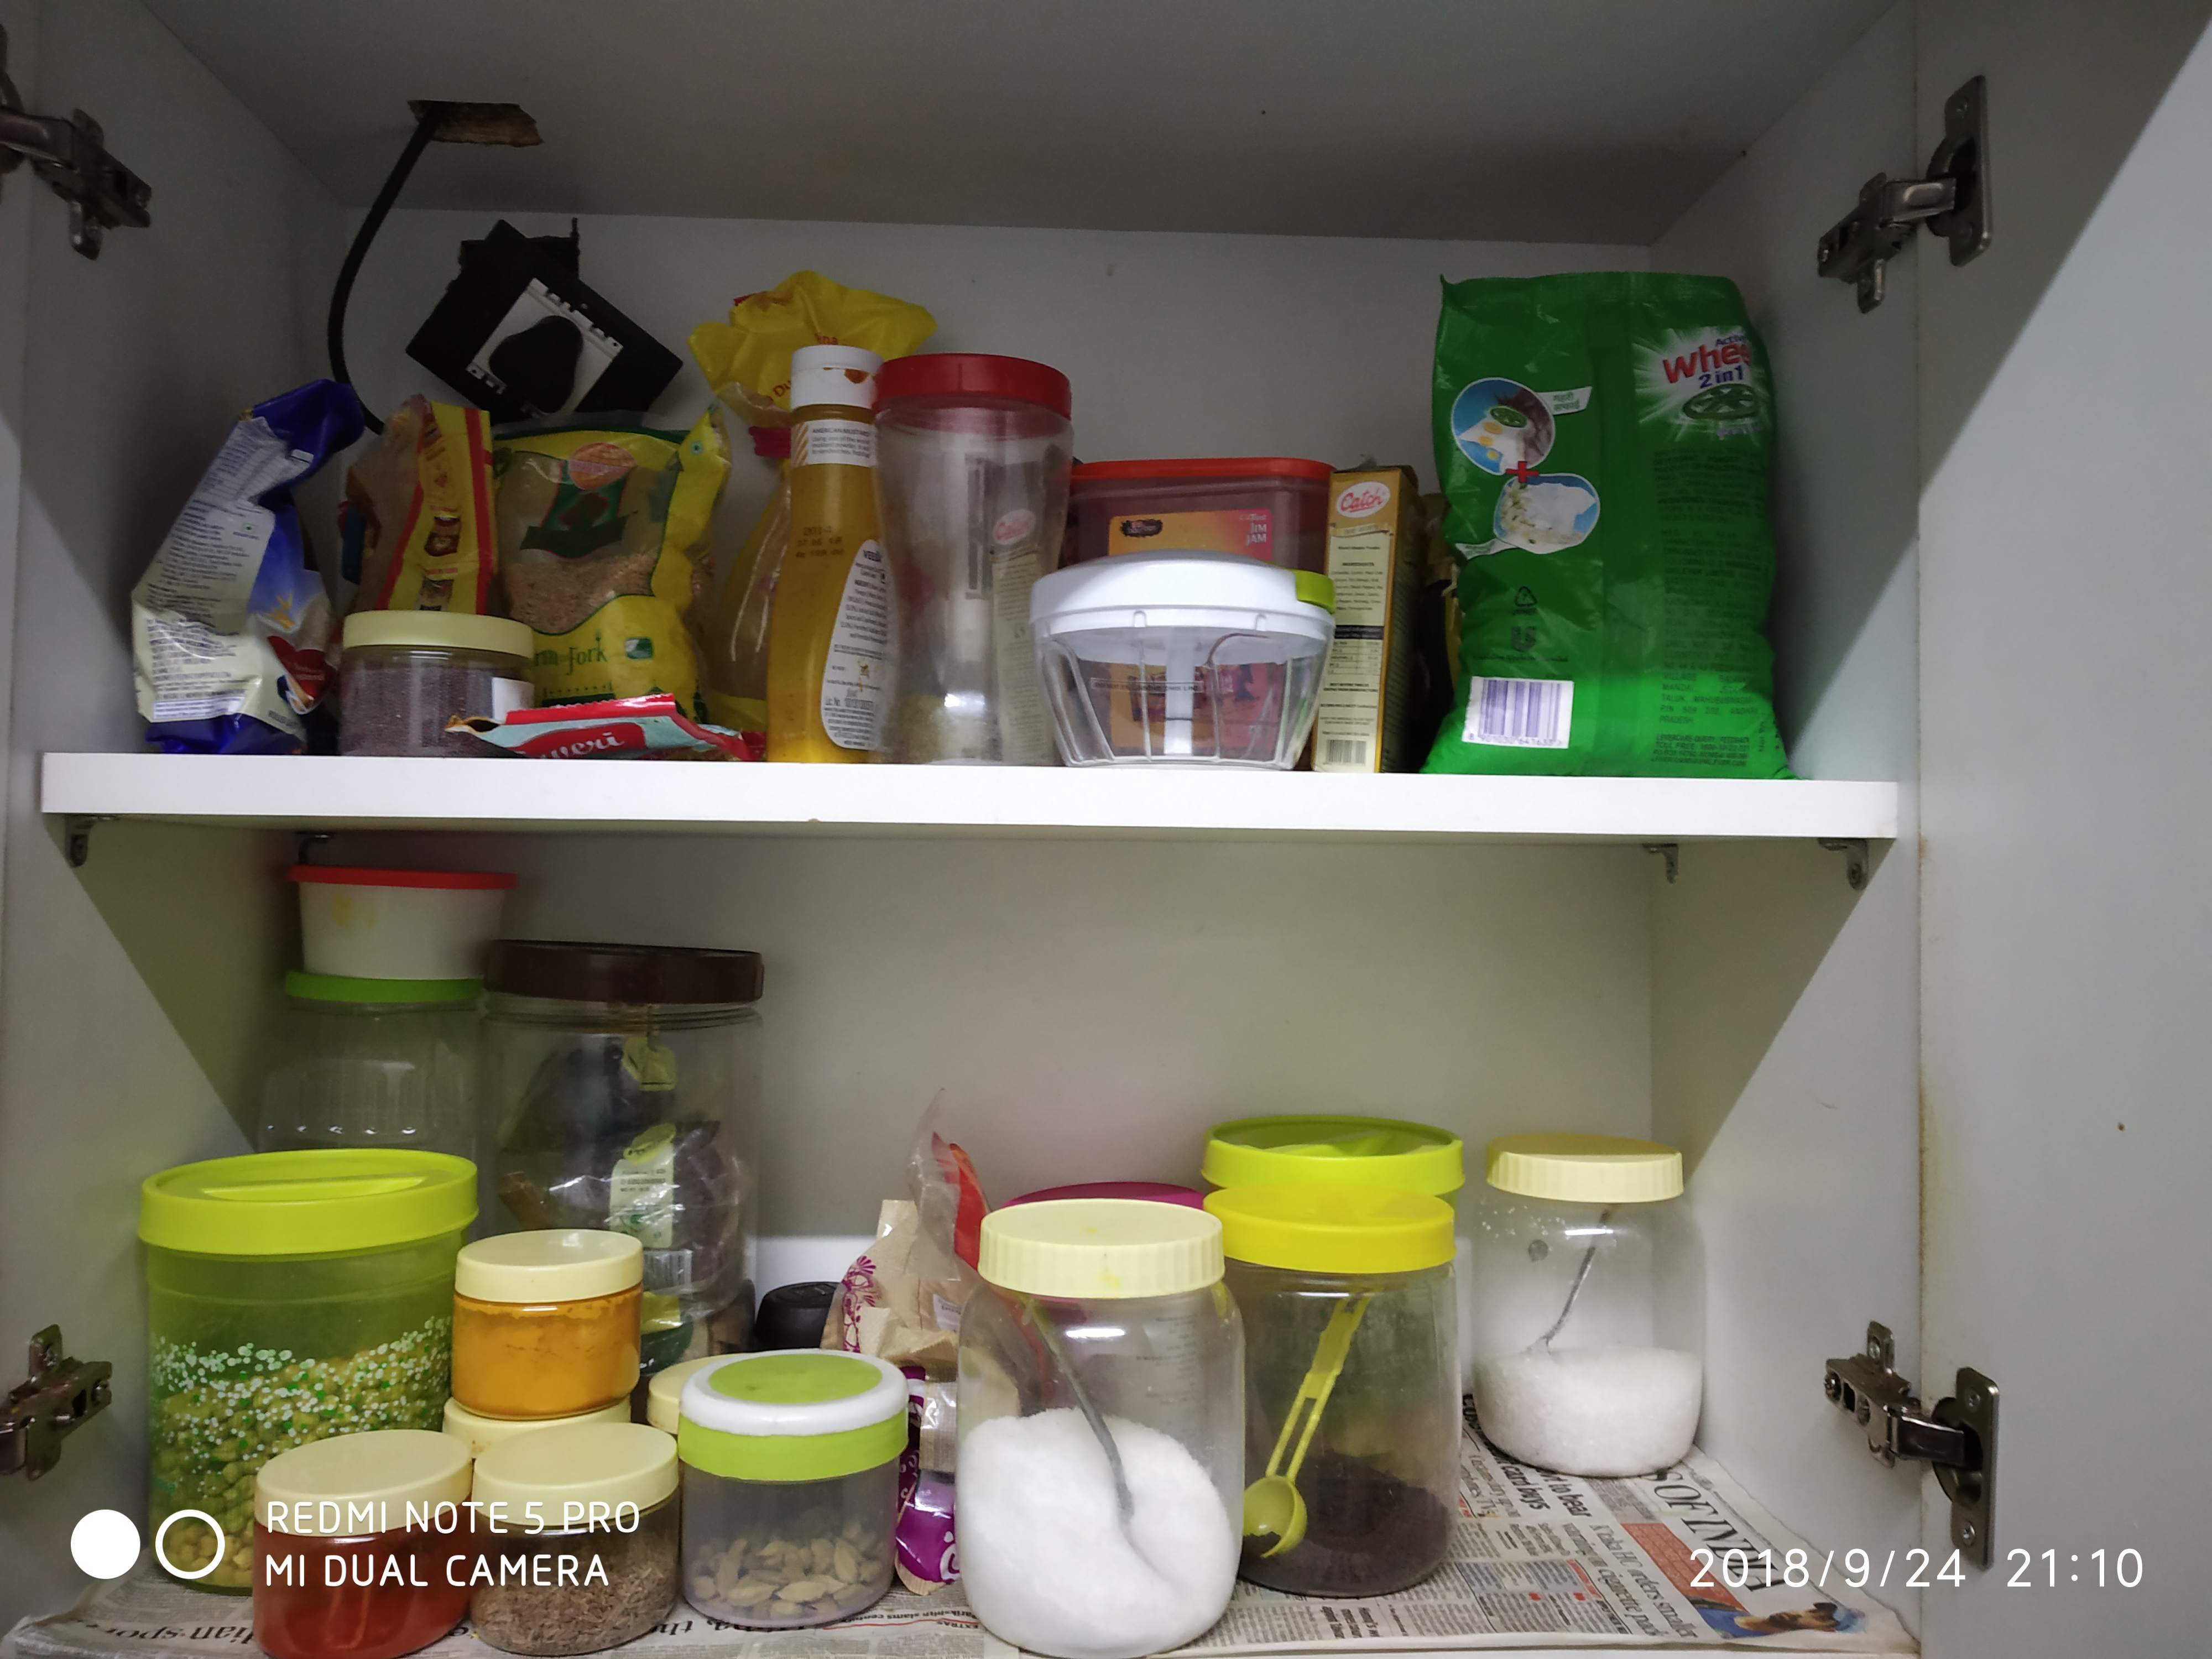detergent: (1417, 229, 1809, 805)
